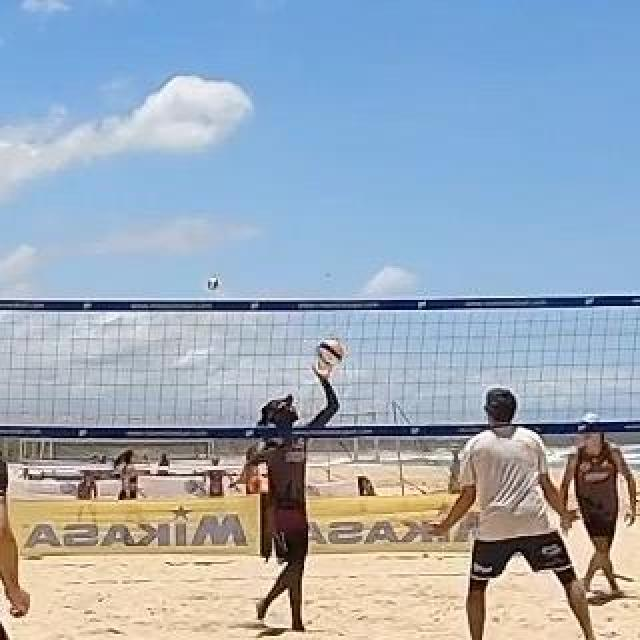volleyball: (316, 339, 344, 365), (208, 276, 222, 290)
